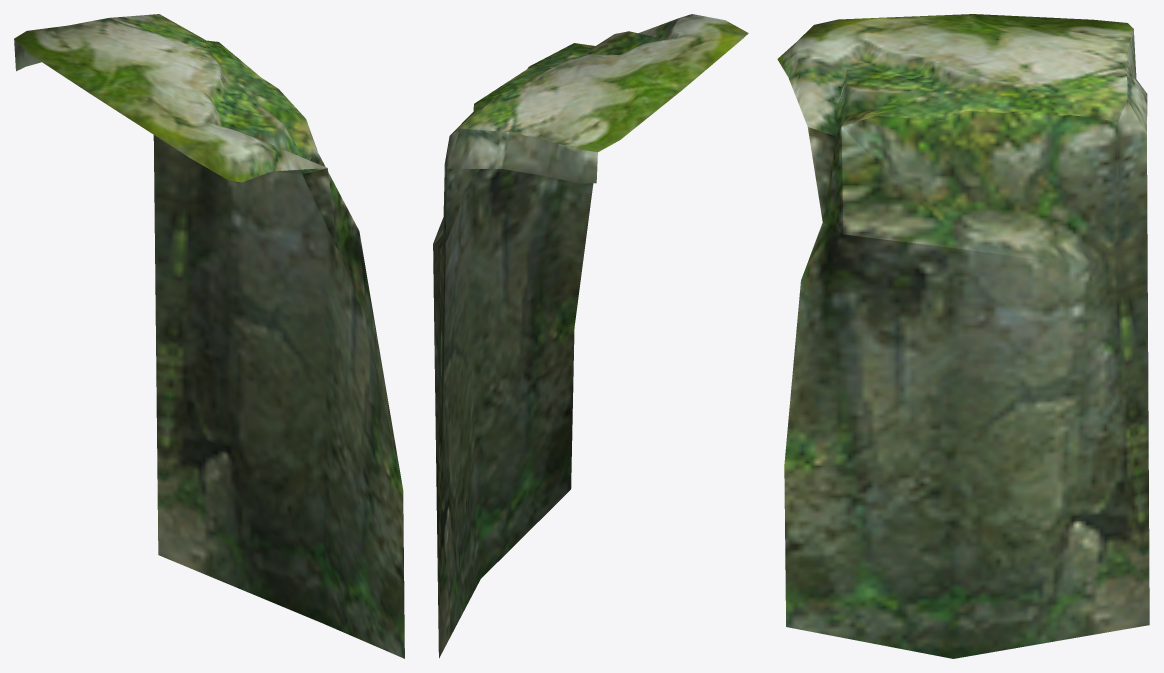
Rendered from S_Rock_Green048_1060_14.fbx.
3 views of the same model, side by side, from view 1: azimuth 30°, elevation 25°; view 2: azimuth 150°, elevation 25°; view 3: azimuth 270°, elevation 25° (orthographic). The views are drawn at different scales.
Visible parts, largest first — view 1: S_Rock_Green048_1060_14; view 2: S_Rock_Green048_1060_14; view 3: S_Rock_Green048_1060_14.
Boxes of the visible parts, <box> form: S_Rock_Green048_1060_14: <box>14,14,404,658</box>; S_Rock_Green048_1060_14: <box>433,14,748,658</box>; S_Rock_Green048_1060_14: <box>777,14,1149,658</box>.
Size of the model in its own units: 872 by 2084 by 1282.
Materials: 1 (1 with a texture image).
